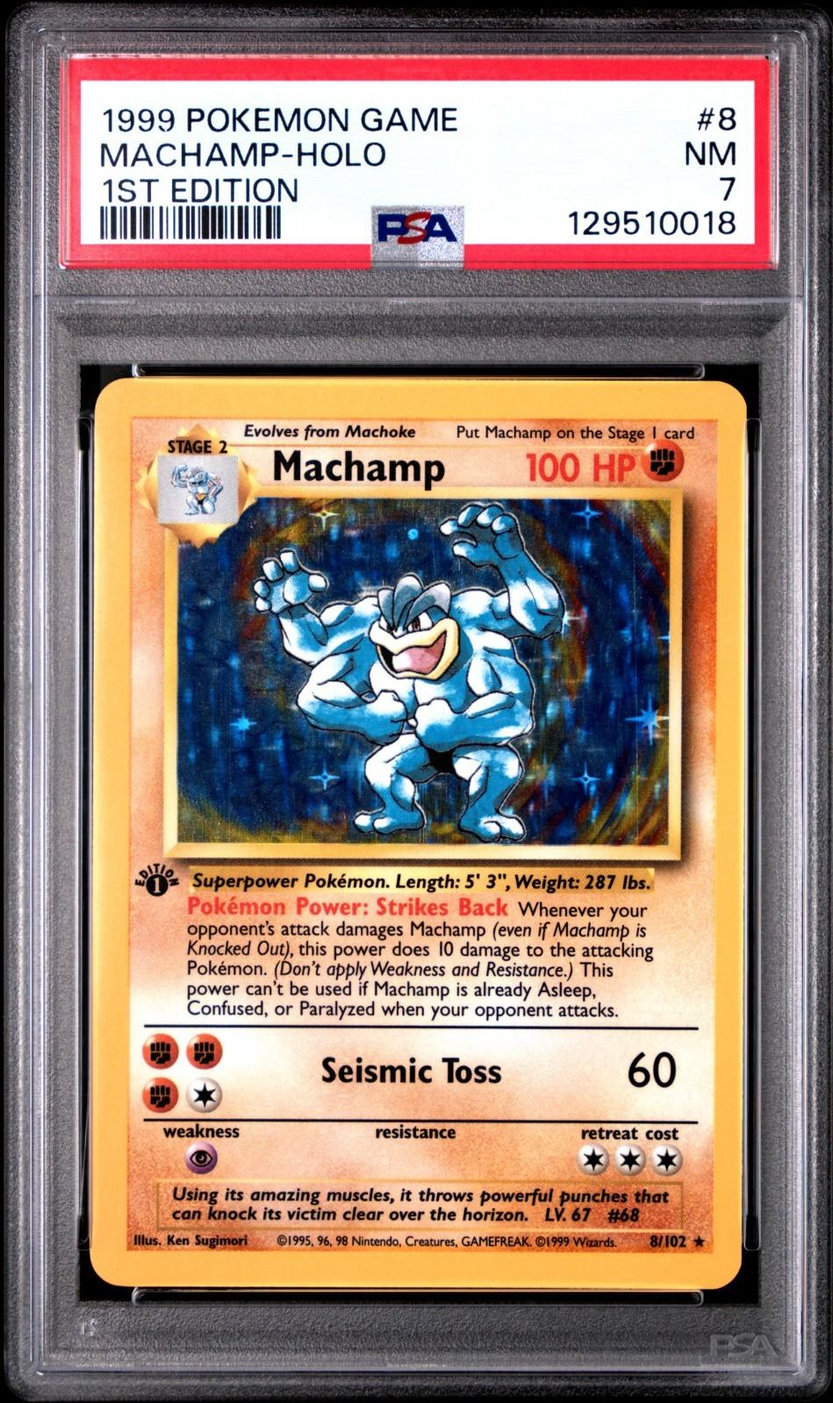card-2UtV: (89, 377, 748, 1290)
